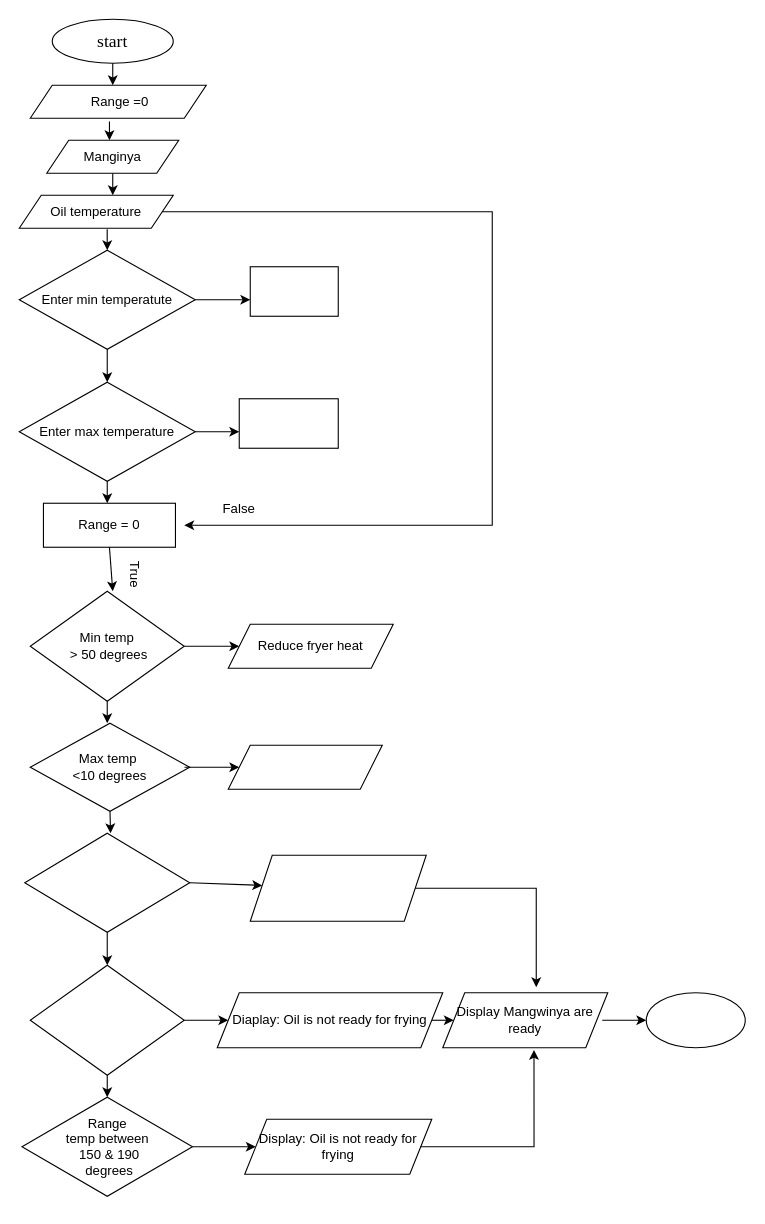
This 765x1224 diagram has some shape labels left out. Here are the shapes that lost their labels. From the top down, the box of each, then its label:
(249, 266, 338, 316): 10 degrees
(238, 398, 338, 448): 50 degrees
(227, 744, 382, 789): Increase fryer heat
(24, 832, 190, 932): Range temp below 150 &190 degrees
(249, 854, 426, 921): Display: Oil is not ready for friying
(29, 964, 184, 1075): If it falls within this range
(645, 992, 745, 1048): End
